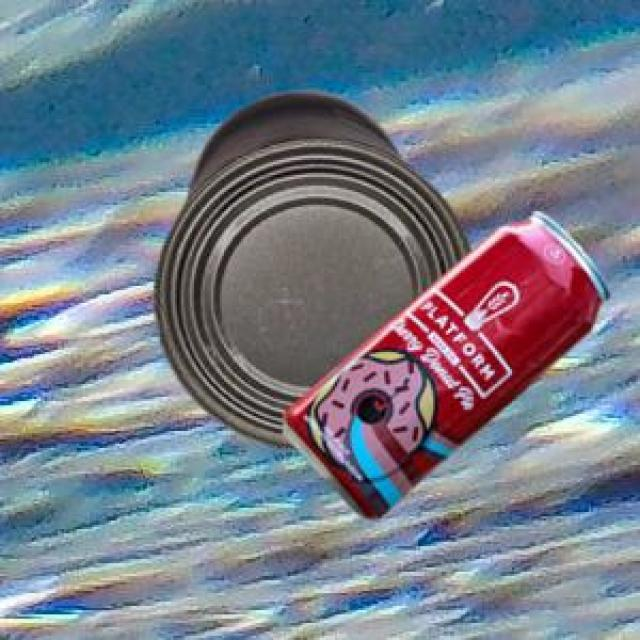Can: (150, 86, 468, 447), (281, 208, 607, 515)
